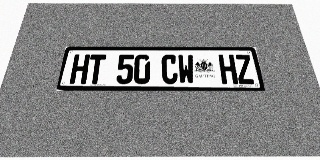0: (133, 54, 150, 84)
5: (116, 54, 134, 84)
C: (161, 54, 178, 84)
H: (69, 54, 90, 84), (218, 55, 238, 84)
T: (86, 54, 106, 84)
W: (177, 54, 195, 84)
Z: (234, 55, 255, 84)
